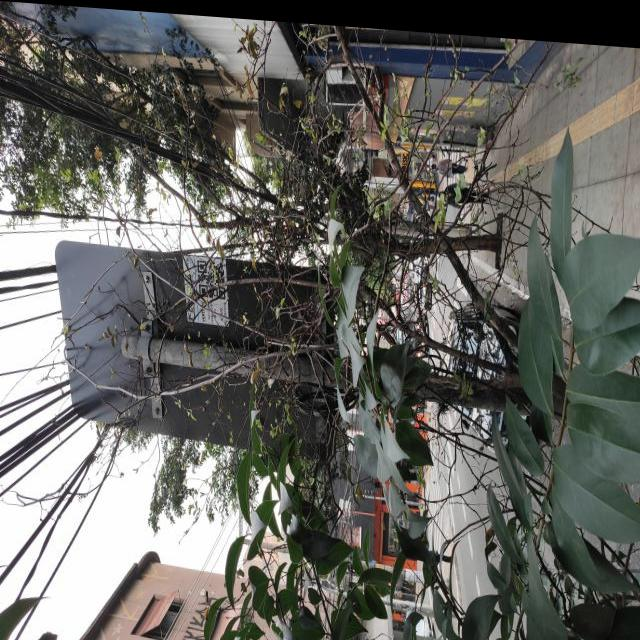qrcode: (198, 257, 227, 296)
